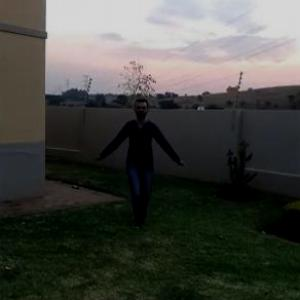land: (98, 100, 184, 222)
